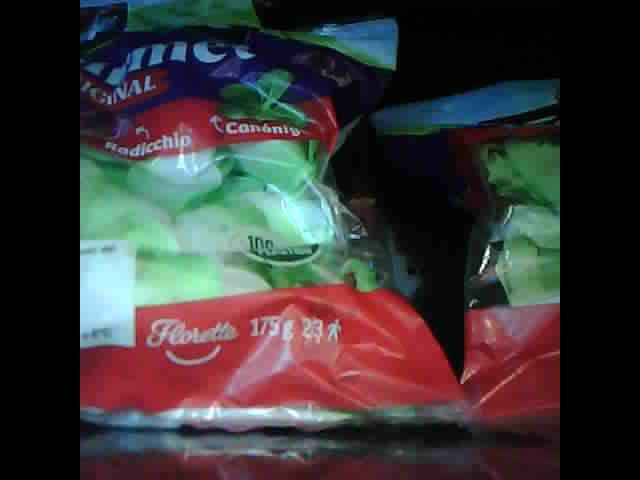florette: (81, 2, 479, 434), (371, 74, 562, 432)
